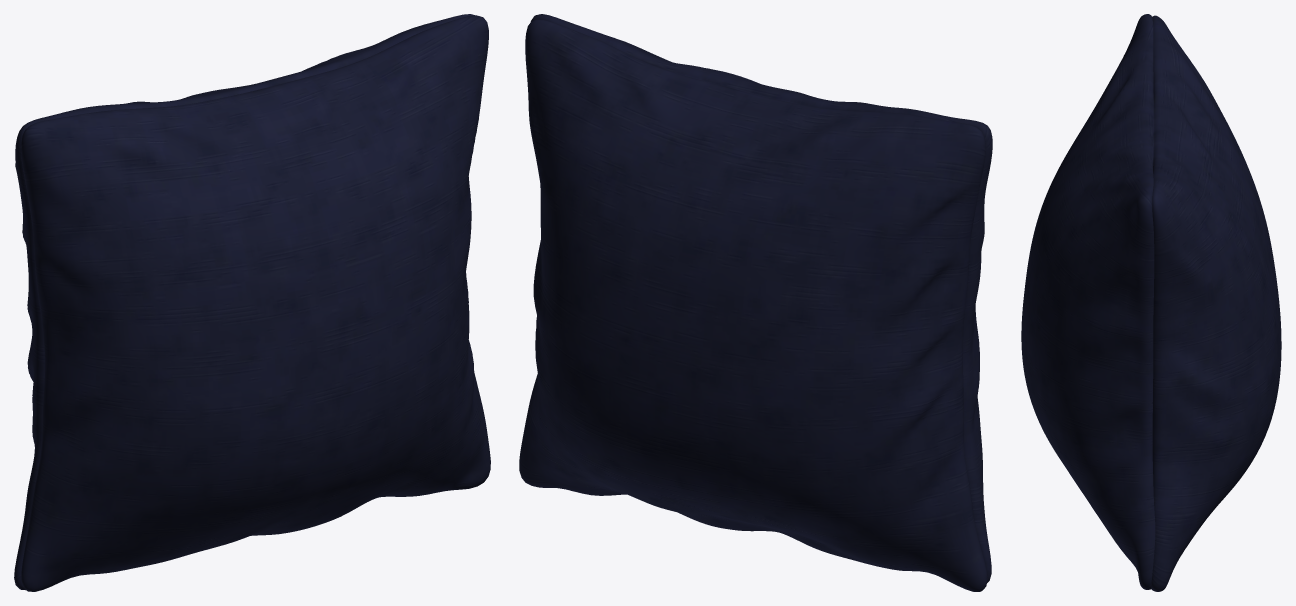
The model's file is B074VLRP5T.glb.
The picture shows the model from 3 angles, left to right: view 1: azimuth 30°, elevation 25°; view 2: azimuth 150°, elevation 25°; view 3: azimuth 270°, elevation 25°; orthographic projection. The views are drawn at different scales.
Visible parts, largest first — view 1: RootNode; view 2: RootNode; view 3: RootNode.
Boxes of the visible parts, x1,y1,x2,y2 form: RootNode: (14, 14, 490, 591); RootNode: (519, 14, 992, 591); RootNode: (1021, 14, 1281, 591).
Bounding box in the file's own units: 0.4316 × 0.4138 × 0.2461.
1 material, 1 textured.
